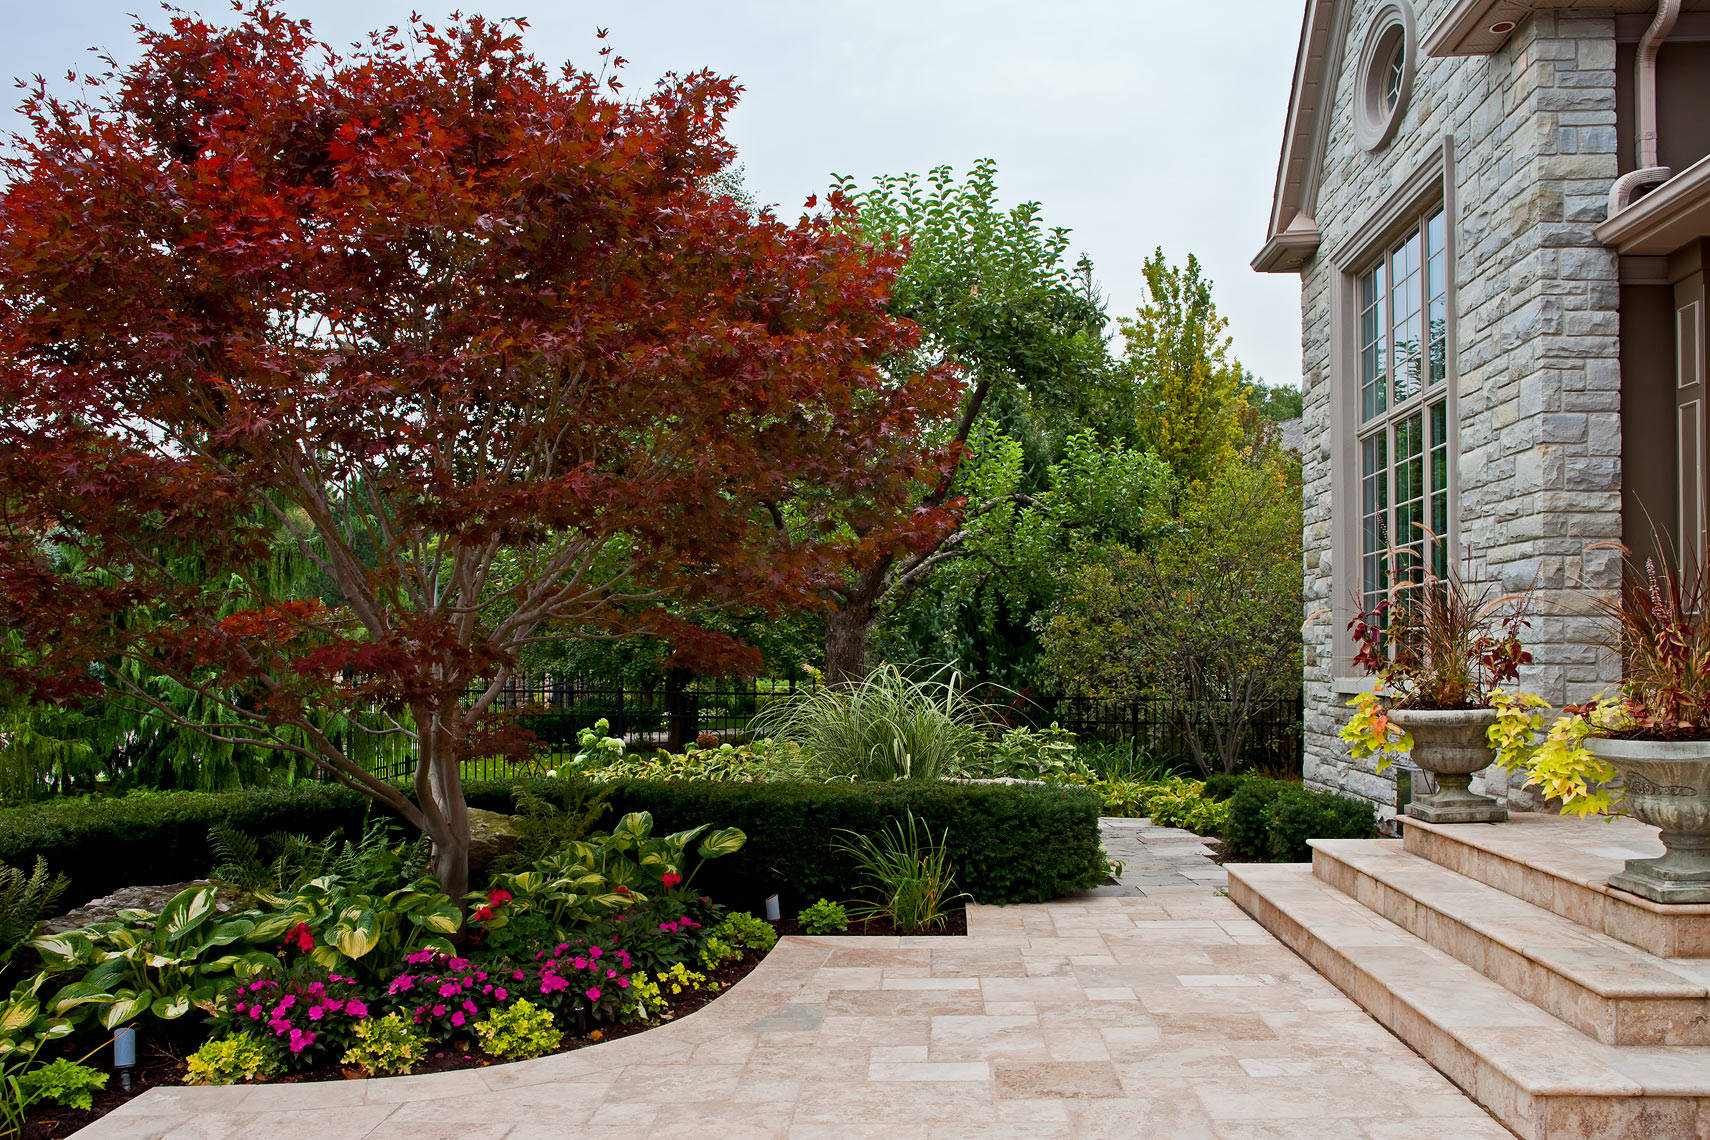bush: (13, 788, 1094, 891)
tree: (1, 3, 915, 883)
